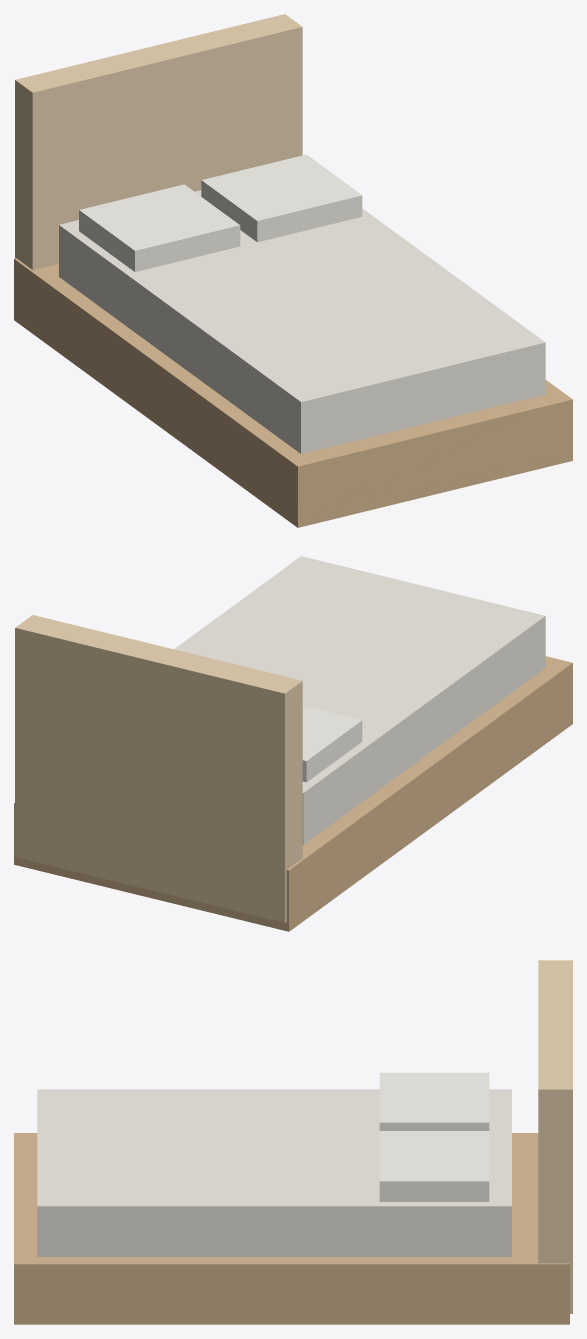
Rendered from bed_single.glb.
3 renders of one model, top to bottom at view 1: azimuth 30°, elevation 25°; view 2: azimuth 150°, elevation 25°; view 3: azimuth 270°, elevation 25°, orthographic. The views are drawn at different scales.
Parts seen in each view (by area): view 1: bed_single_ivory_1, bed_single_oak_light_2, bed_single_oak_0, bed_single_white_3, bed_single_white_4; view 2: bed_single_oak_light_2, bed_single_ivory_1, bed_single_oak_0, bed_single_white_3; view 3: bed_single_ivory_1, bed_single_oak_0, bed_single_oak_light_2, bed_single_white_4, bed_single_white_3.
Boxes of the visible parts, <box> form: bed_single_ivory_1: <box>59,190,545,453</box>; bed_single_oak_light_2: <box>15,14,302,269</box>; bed_single_oak_0: <box>14,258,572,527</box>; bed_single_white_3: <box>79,184,240,271</box>; bed_single_white_4: <box>201,154,362,242</box>; bed_single_oak_light_2: <box>15,615,302,922</box>; bed_single_ivory_1: <box>174,556,545,844</box>; bed_single_oak_0: <box>14,656,572,931</box>; bed_single_white_3: <box>302,706,362,782</box>; bed_single_ivory_1: <box>37,1089,511,1256</box>; bed_single_oak_0: <box>14,1133,569,1324</box>; bed_single_oak_light_2: <box>538,960,572,1313</box>; bed_single_white_4: <box>379,1131,489,1201</box>; bed_single_white_3: <box>379,1072,489,1130</box>.
Bounding box in the file's own units: 1.08 × 0.895 × 1.94.
